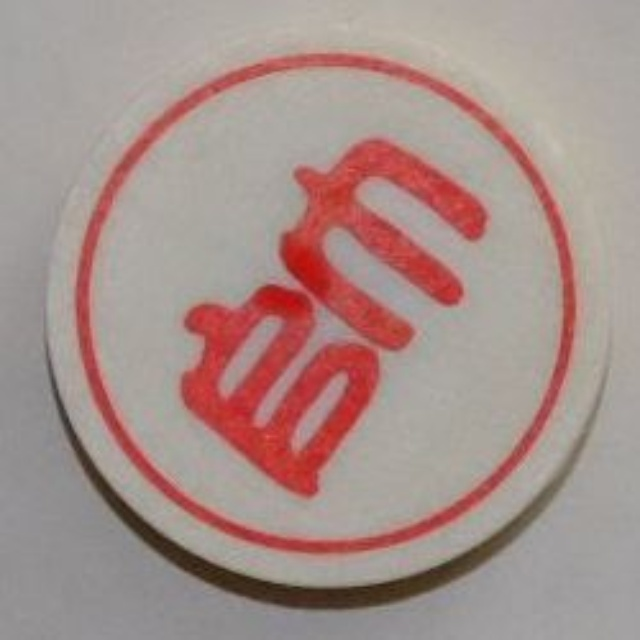red_tuong: (42, 14, 622, 595)
